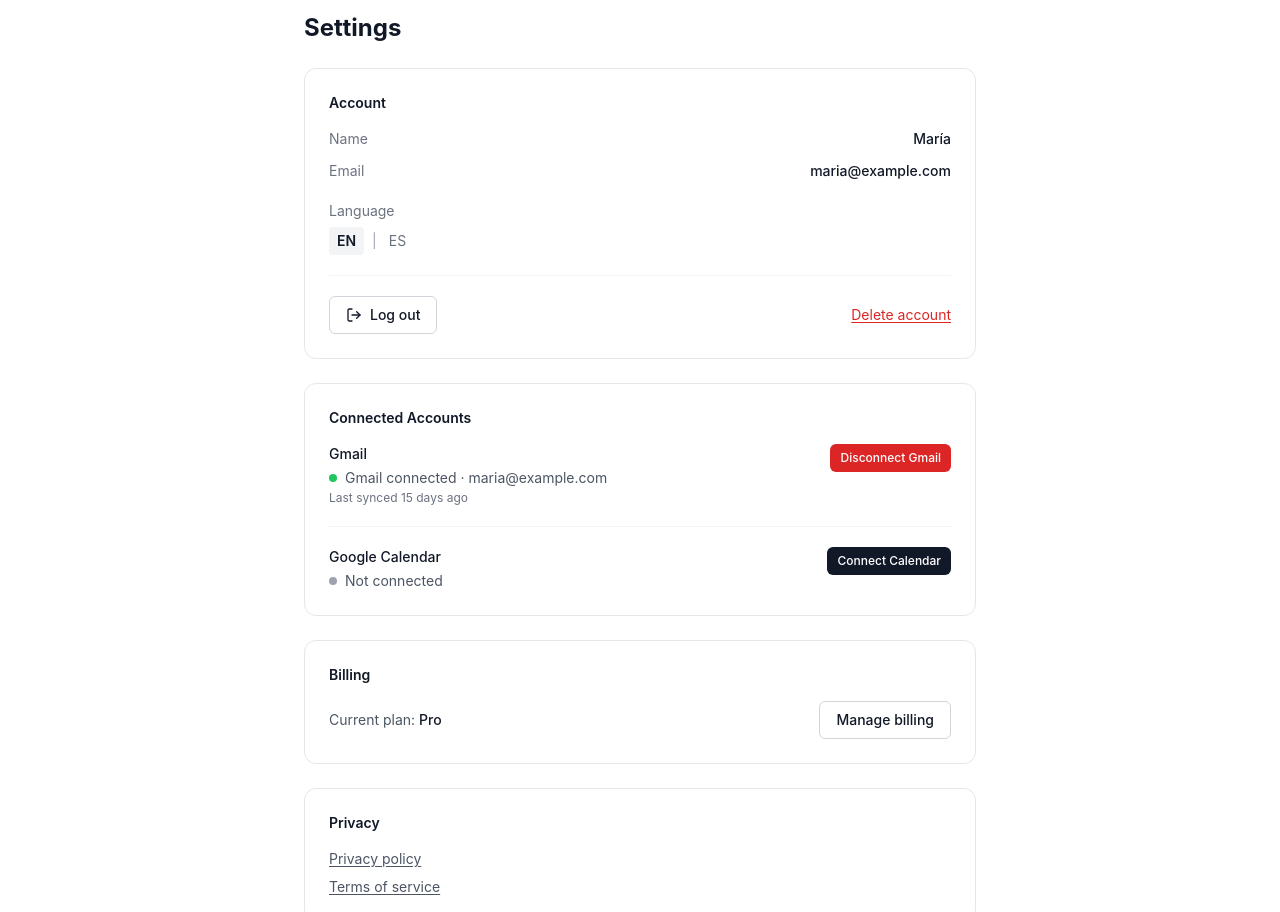
Test: SettingsPage › still surfaces the connect error toast when the consent-URL request genuinely fails
The width and height of the screenshot is (1280, 912).
Click the button with test id "calendar-connect" at coordinates (889, 561), box [828,547,951,575]
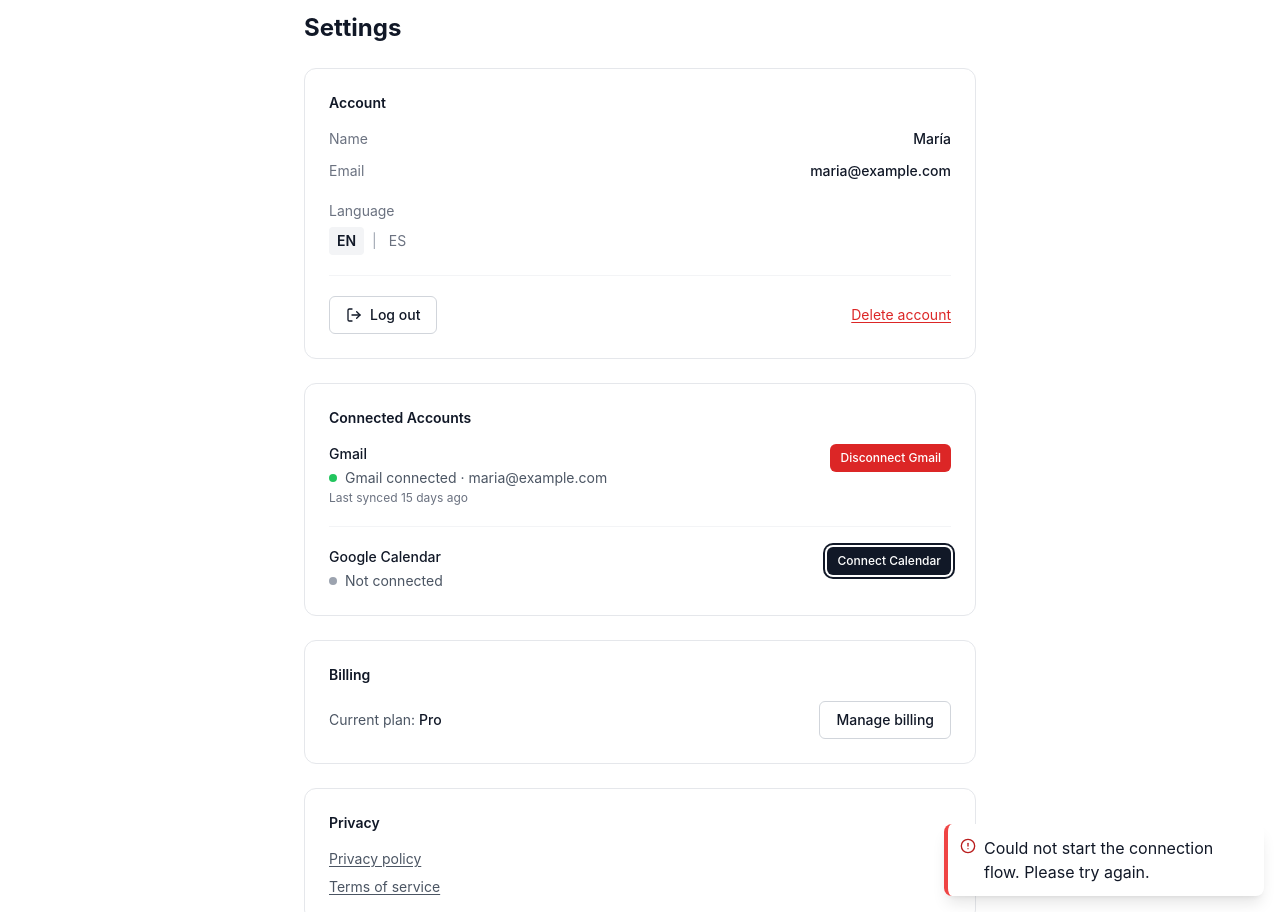
Check: the element with test id "toast-error" is shown, box [944,824,1264,896]
